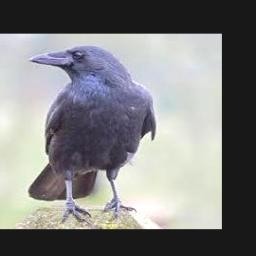Crow: (27, 45, 155, 225)
